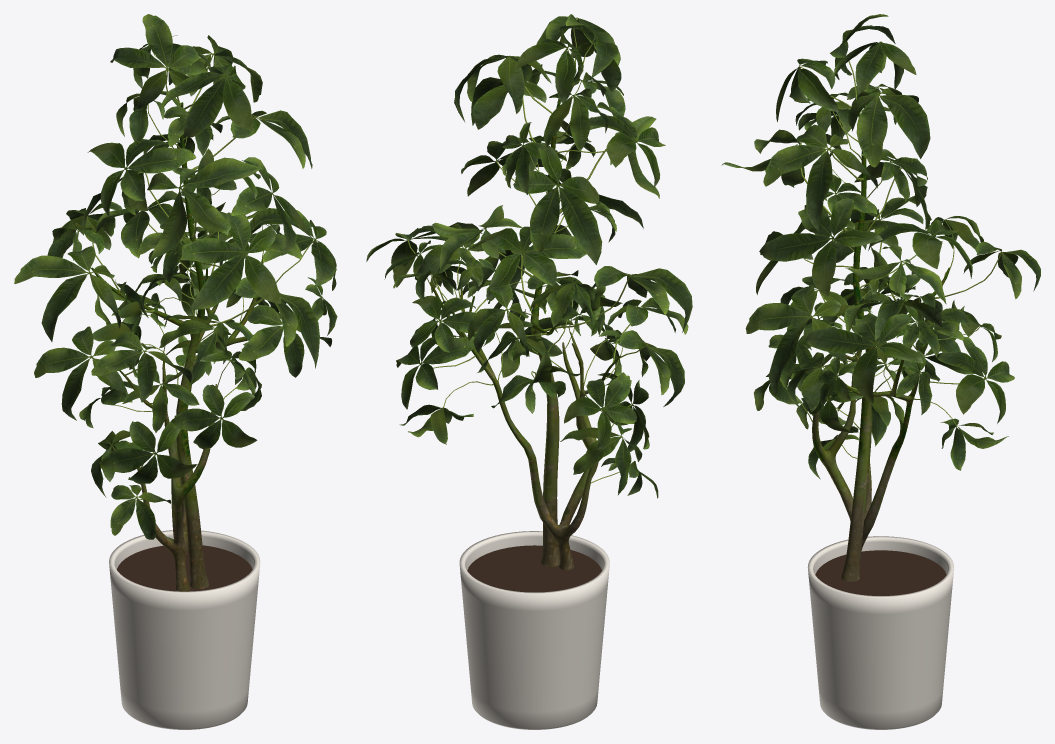
The model's file is plant-money-tree.glb.
The picture shows the model from 3 angles, left to right: view 1: azimuth 30°, elevation 25°; view 2: azimuth 150°, elevation 25°; view 3: azimuth 270°, elevation 25°; orthographic projection. The views are drawn at different scales.
Visible parts, largest first — view 1: pachira_aquatica_01_leaves_d, pot, pachira_aquatica_01_bark_d, soil; view 2: pachira_aquatica_01_leaves_d, pot, pachira_aquatica_01_bark_d, soil; view 3: pachira_aquatica_01_leaves_d, pot, pachira_aquatica_01_bark_d, soil.
Part boxes in pixels (x1,y1,x2,y2): pachira_aquatica_01_leaves_d: (14,14,337,539); pot: (109,530,260,729); pachira_aquatica_01_bark_d: (91,102,263,591); soil: (116,545,252,591); pachira_aquatica_01_leaves_d: (366,14,692,498); pot: (459,531,609,729); pachira_aquatica_01_bark_d: (430,99,620,570); soil: (467,545,601,592); pachira_aquatica_01_leaves_d: (721,14,1040,479); pot: (807,536,954,729); pachira_aquatica_01_bark_d: (812,114,950,581); soil: (815,550,946,595).
Bounding box in the file's own units: 0.9701 × 2.14 × 0.9173.
4 materials, 2 textured.
